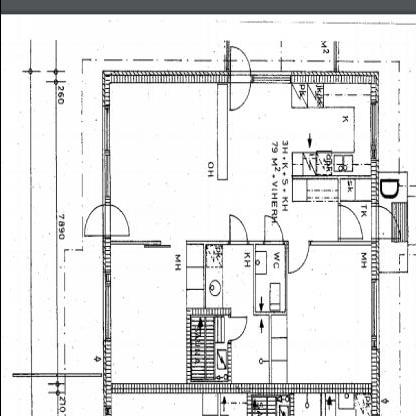door: (81, 201, 131, 241), (229, 39, 253, 119), (369, 198, 401, 245), (338, 201, 365, 246), (286, 236, 312, 277), (262, 210, 287, 249), (224, 311, 249, 349), (225, 213, 251, 249)
window: (99, 264, 116, 350), (98, 102, 112, 200), (367, 274, 383, 356), (365, 93, 383, 165), (249, 68, 294, 92)
